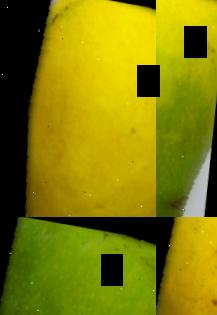PartiallyRipe: (156, 0, 217, 217), (156, 217, 217, 315)
Ripe: (0, 0, 156, 217)
Unripe: (0, 217, 156, 315)
